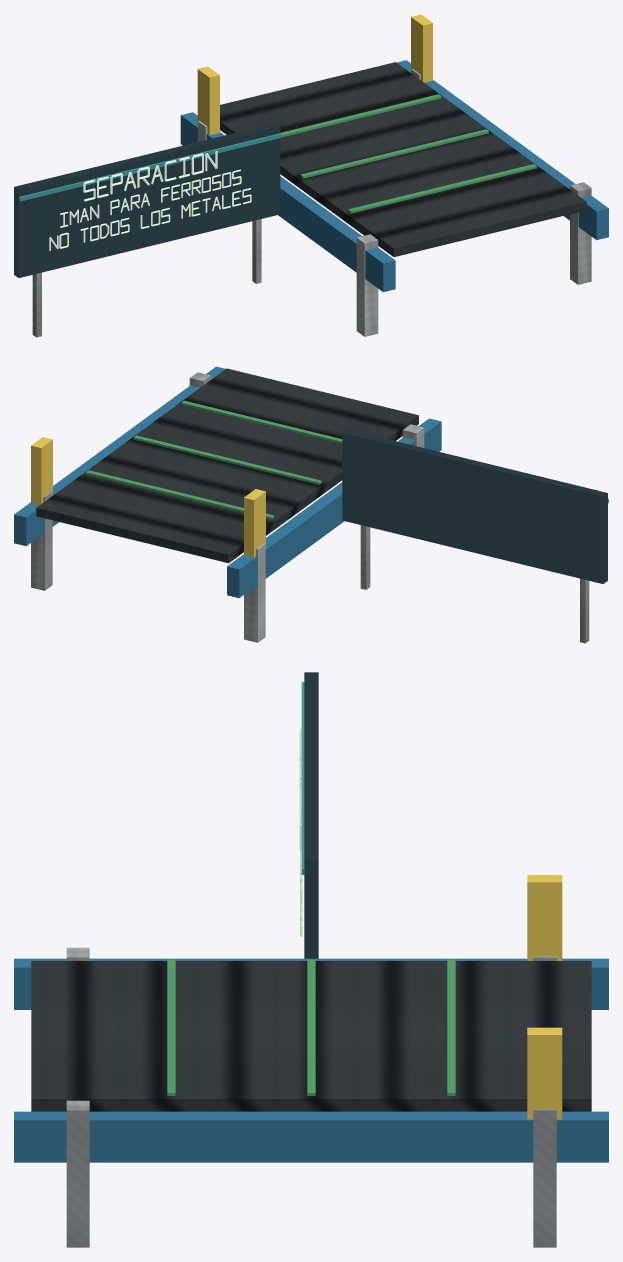
File: CYCLE-007.glb
The picture shows the model from 3 angles, top to bottom: view 1: azimuth 30°, elevation 25°; view 2: azimuth 150°, elevation 25°; view 3: azimuth 270°, elevation 25°; orthographic projection. The views are drawn at different scales.
Parts seen in each view (by area): view 1: CYCLE-007; view 2: CYCLE-007; view 3: CYCLE-007.
Boxes of the visible parts, x1,y1,x2,y2 form: CYCLE-007: (14,14,608,337); CYCLE-007: (14,366,608,643); CYCLE-007: (14,672,608,1247).
Size of the model in its own units: 7.15 by 2.11 by 5.1.
8 materials, 2 textured.
